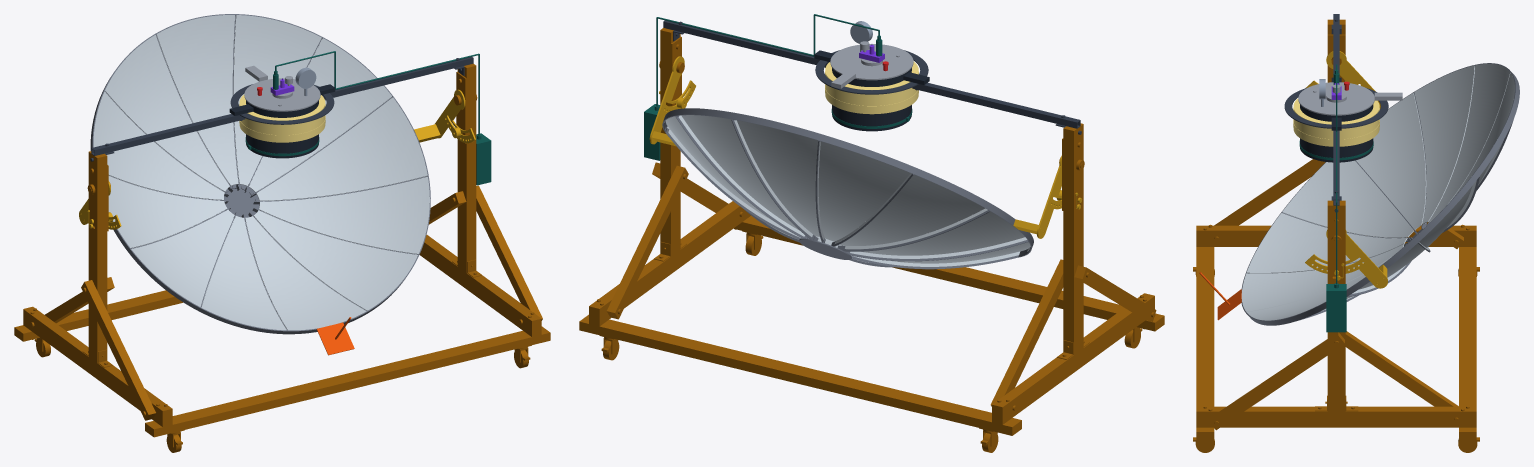
The picture shows the model from 3 angles, left to right: view 1: azimuth 30°, elevation 25°; view 2: azimuth 150°, elevation 25°; view 3: azimuth 270°, elevation 25°; orthographic projection. The views are drawn at different scales.
Visible parts, largest first — view 1: Reflector, 12 aluminum petals, Timber stand with castors, Dish ribs, rim, hub and clips, Level pot holder (fixed to stand), Insulated jacket, Canner lid with weighted regulator, Cycle logger, Pressure canner body, about 12 L, Tilt yoke and locks, Sighting gnomon; view 2: Timber stand with castors, Reflector, 12 aluminum petals, Dish ribs, rim, hub and clips, Level pot holder (fixed to stand), Tilt yoke and locks, Canner lid with weighted regulator, Insulated jacket, Pressure canner body, about 12 L, Cycle logger; view 3: Reflector, 12 aluminum petals, Timber stand with castors, Dish ribs, rim, hub and clips, Canner lid with weighted regulator, Tilt yoke and locks, Insulated jacket, Level pot holder (fixed to stand), Cycle logger, Pressure canner body, about 12 L, Sighting gnomon.
Boxes of the visible parts, x1,y1,x2,y2 form: Reflector, 12 aluminum petals: (93, 15, 429, 330); Timber stand with castors: (14, 63, 550, 452); Dish ribs, rim, hub and clips: (90, 14, 430, 334); Level pot holder (fixed to stand): (90, 57, 473, 161); Insulated jacket: (239, 94, 325, 142); Canner lid with weighted regulator: (244, 65, 320, 111); Cycle logger: (245, 51, 491, 185); Pressure canner body, about 12 L: (229, 84, 335, 158); Tilt yoke and locks: (79, 89, 475, 229); Sighting gnomon: (316, 317, 354, 355); Timber stand with castors: (579, 28, 1164, 452); Reflector, 12 aluminum petals: (664, 115, 1030, 266); Dish ribs, rim, hub and clips: (662, 108, 1033, 269); Level pot holder (fixed to stand): (663, 20, 1081, 134); Tilt yoke and locks: (649, 56, 1082, 238); Canner lid with weighted regulator: (830, 41, 913, 88); Insulated jacket: (825, 61, 918, 114); Pressure canner body, about 12 L: (814, 50, 929, 131); Cycle logger: (644, 14, 912, 160); Reflector, 12 aluminum petals: (1241, 64, 1514, 320); Timber stand with castors: (1193, 19, 1479, 452); Dish ribs, rim, hub and clips: (1241, 63, 1519, 325); Canner lid with weighted regulator: (1298, 82, 1402, 115); Tilt yoke and locks: (1305, 51, 1387, 288); Insulated jacket: (1293, 98, 1379, 146); Level pot holder (fixed to stand): (1284, 14, 1388, 212); Cycle logger: (1299, 64, 1373, 332); Pressure canner body, about 12 L: (1300, 77, 1373, 162); Sighting gnomon: (1199, 272, 1241, 320).
Size of the model in its own units: 1.83 by 1.29 by 1.28.
